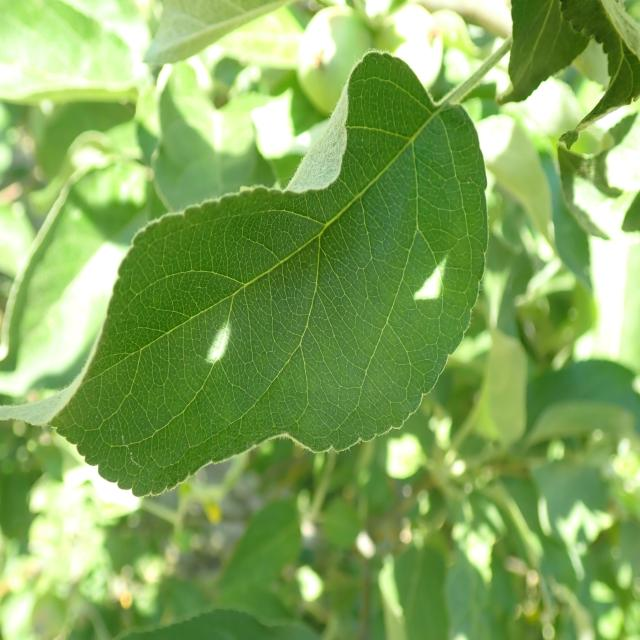healthy: (46, 48, 490, 500)
